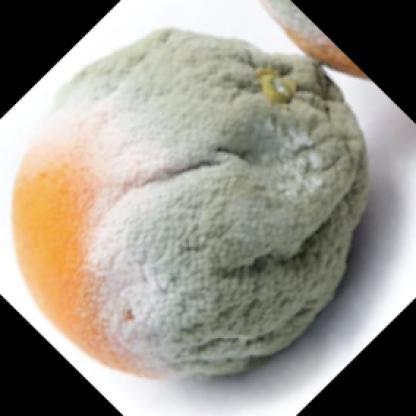rotten: (12, 29, 372, 381)
